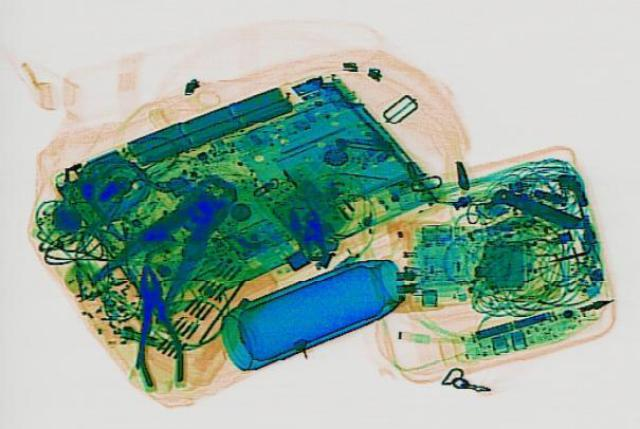Pliers: (71, 165, 272, 324), (120, 264, 186, 384)
